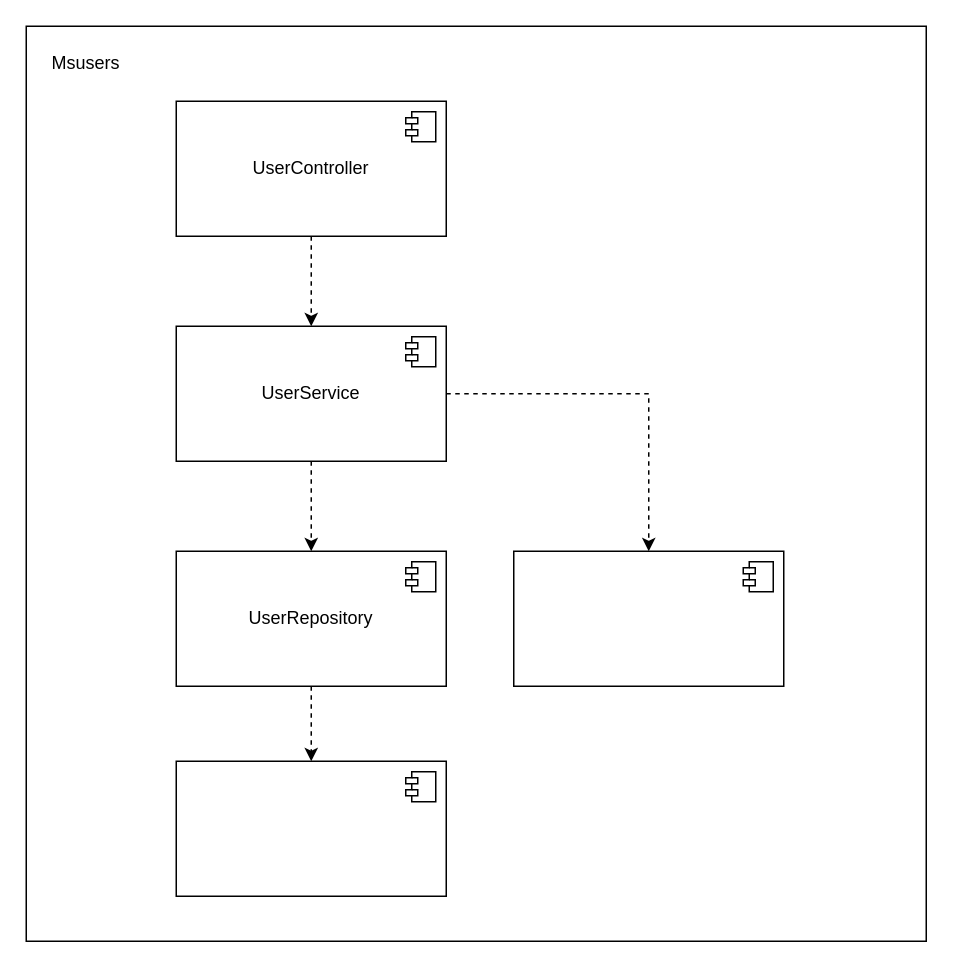
Image size: 953x968. Some labels were removed from this diagram. Each missing label, with the box of its shape:
Models: (175, 760, 446, 896)
Util: (512, 550, 784, 686)
